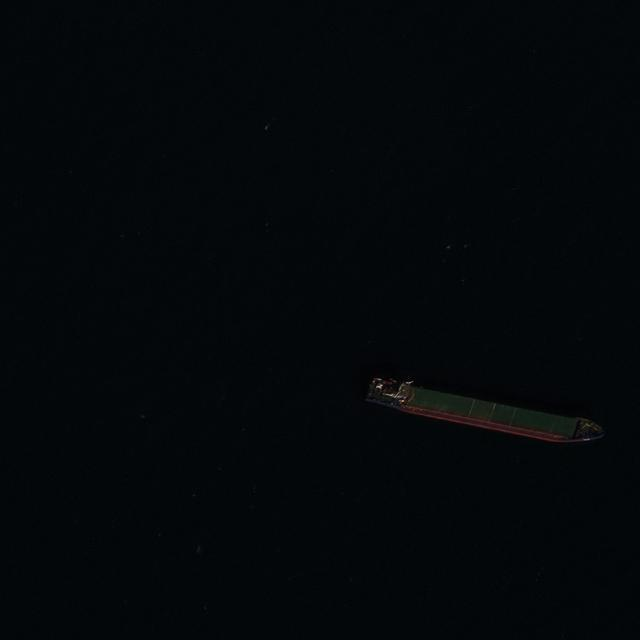Container Ship: (363, 374, 610, 452)
